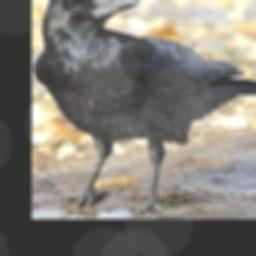Crow: (33, 0, 256, 213)
